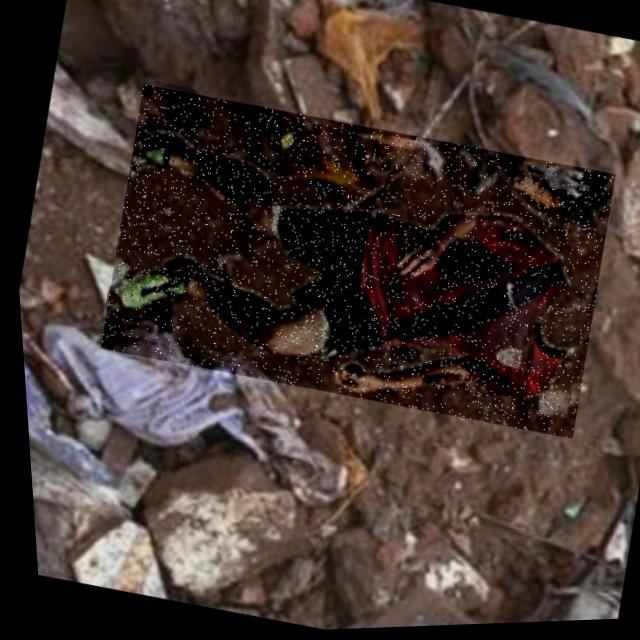Person in Rubble: (81, 72, 625, 456)
